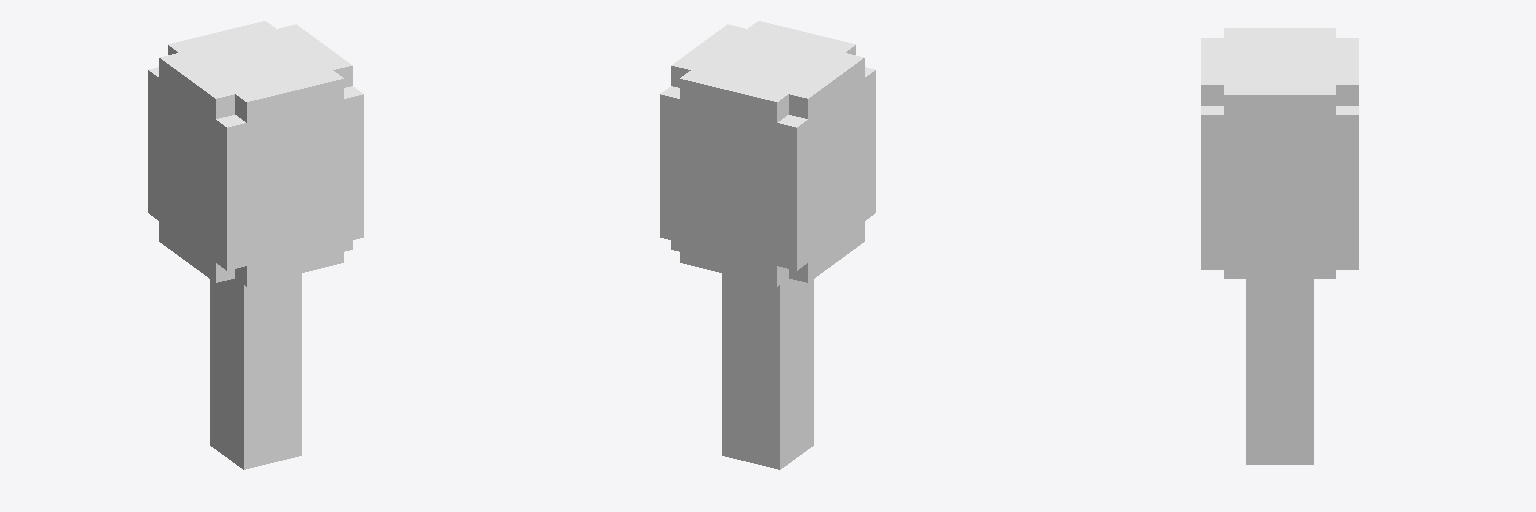
Rendered from apple_tree.obj.
3 renders of one model, left to right at view 1: azimuth 30°, elevation 25°; view 2: azimuth 150°, elevation 25°; view 3: azimuth 270°, elevation 25°, orthographic.
Size of the model in its own units: 7 by 19 by 7.